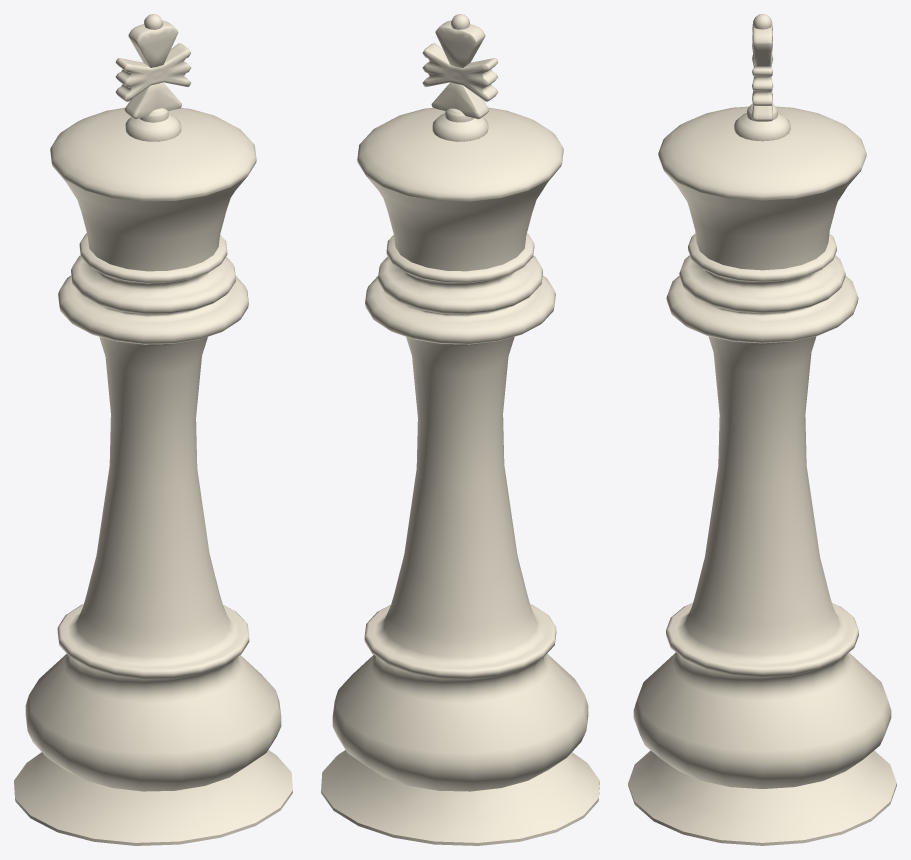
File: white-king.glb
The picture shows the model from 3 angles, left to right: view 1: azimuth 30°, elevation 25°; view 2: azimuth 150°, elevation 25°; view 3: azimuth 270°, elevation 25°; orthographic projection.
Parts seen in each view (by area): view 1: King; view 2: King; view 3: King.
Part boxes in pixels (x1=…): King: x1=14, y1=14, x2=292, y2=845; King: x1=321, y1=14, x2=599, y2=845; King: x1=628, y1=14, x2=896, y2=845.
Bounding box in the file's own units: 0.0514 × 0.1543 × 0.0487.
